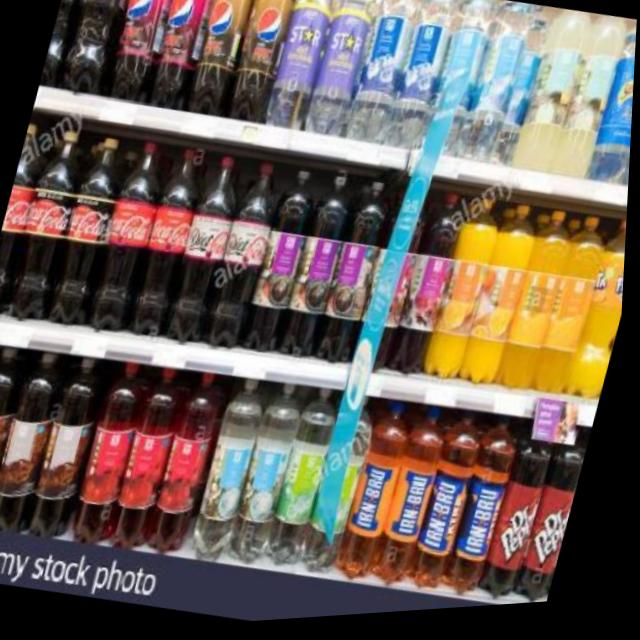Drinks: (2, 125, 91, 322), (125, 144, 214, 341), (84, 139, 173, 334), (164, 151, 252, 347), (44, 133, 132, 328), (204, 159, 292, 354), (484, 420, 567, 609), (522, 430, 596, 611), (568, 220, 630, 407), (221, 0, 300, 126), (0, 122, 50, 315), (184, 0, 259, 119), (144, 0, 219, 114), (100, 0, 180, 105), (55, 0, 137, 98), (38, 0, 95, 89)
